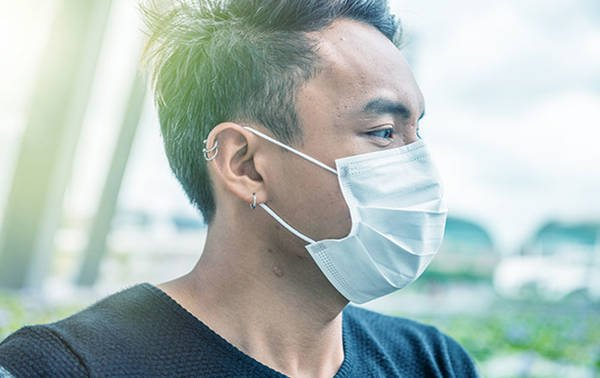mask: (139, 4, 468, 312)
